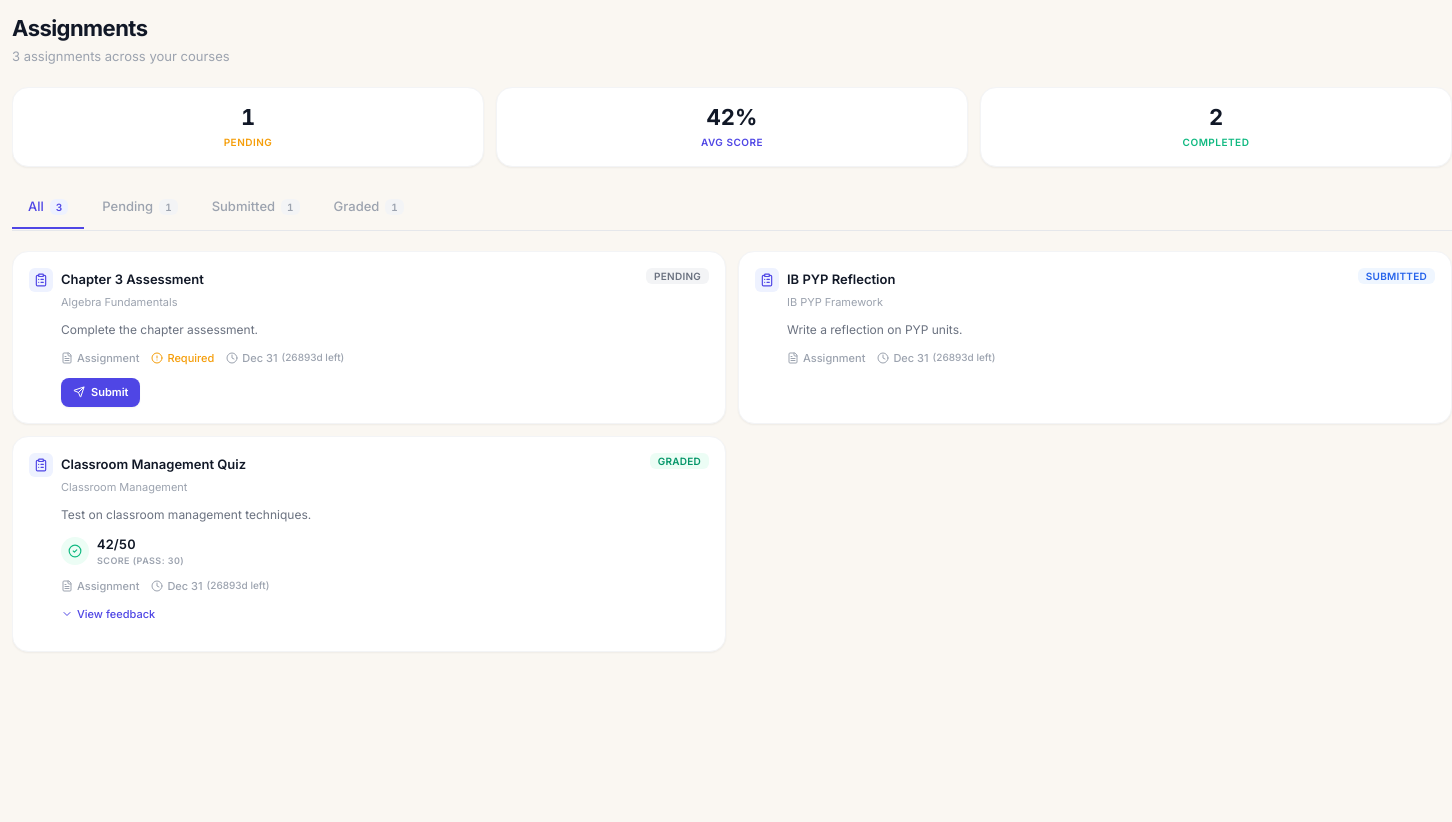
Scenario: Student AssignmentsPage › Empty state — Submitted tab › shows "Nothing submitted" when Submitted tab is empty
Expected: the heading "Chapter 3 Assessment" is shown, [61,271,204,288]
Click the button "Submitted1" at (256, 208), box [196,187,316,228]
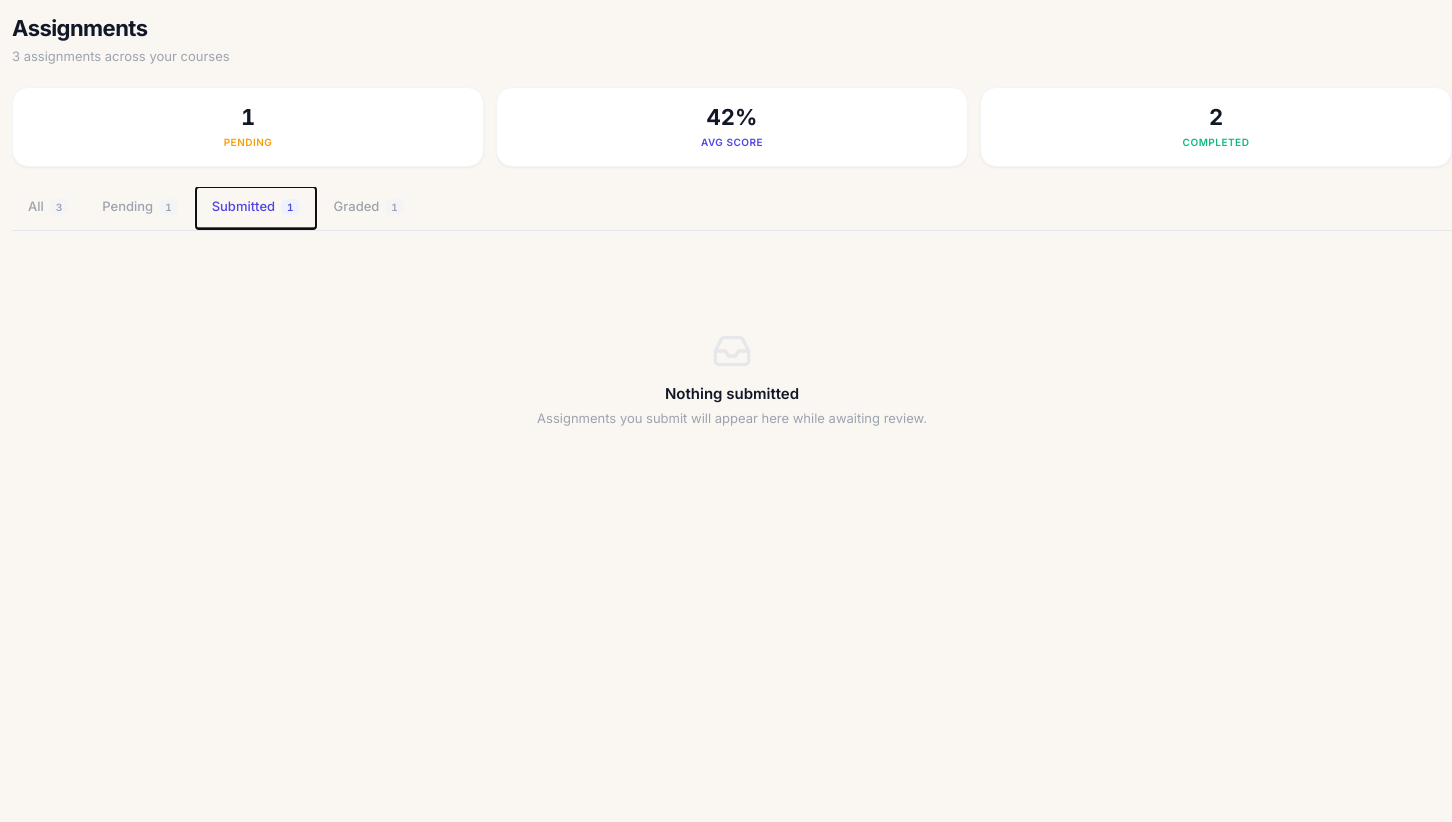
Result: the heading "Nothing submitted" is shown at [665,384,799,402]
